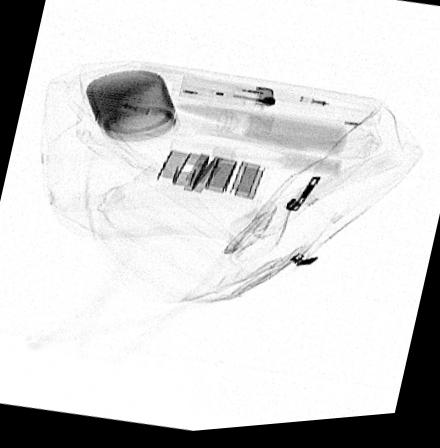Lighter: (178, 77, 277, 114)
